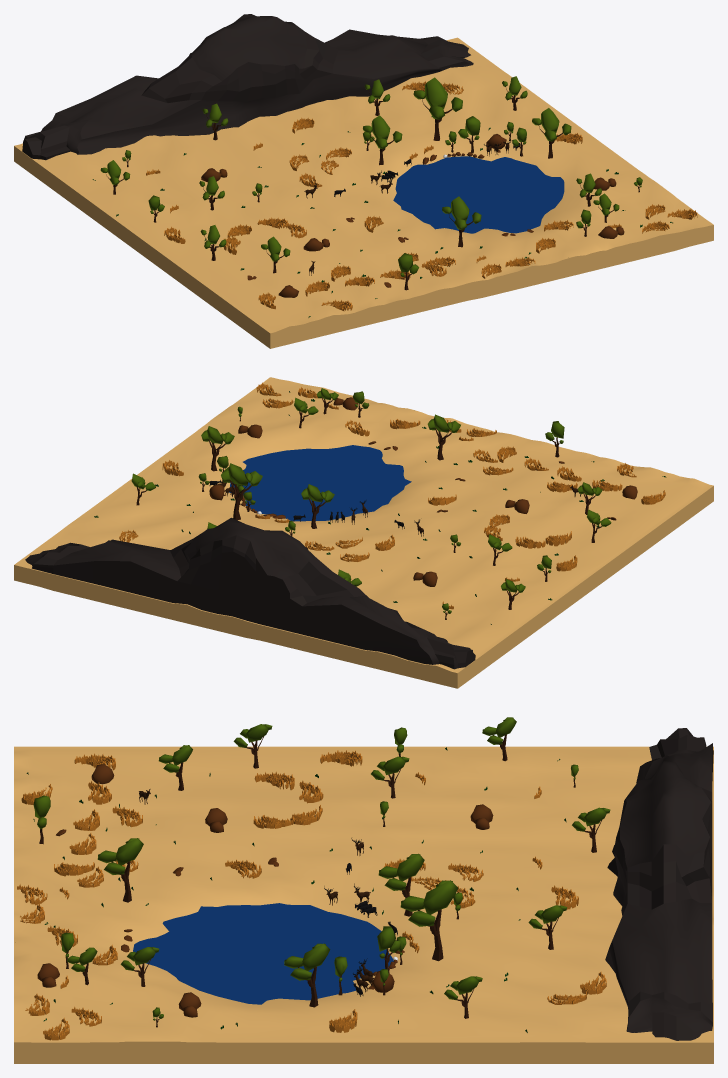
Rendered from 01_Wild.FBX.
The picture shows the model from 3 angles, top to bottom: view 1: azimuth 30°, elevation 25°; view 2: azimuth 150°, elevation 25°; view 3: azimuth 270°, elevation 25°; orthographic projection. The views are drawn at different scales.
Visible parts, largest first — view 1: Box001, Box002, Box1055; view 2: Box001, Box002, Box1055; view 3: Box001, Box002, Box1055, grp1, GeoSphere089.
Boxes of the visible parts, x1=… form: Box001: x1=14, y1=37, x2=713, y2=348; Box002: x1=22, y1=14, x2=473, y2=160; Box1055: x1=393, y1=156, x2=564, y2=233; Box001: x1=14, y1=377, x2=713, y2=688; Box002: x1=25, y1=517, x2=475, y2=669; Box1055: x1=229, y1=445, x2=411, y2=521; Box001: x1=14, y1=746, x2=713, y2=1063; Box002: x1=605, y1=728, x2=713, y2=1040; Box1055: x1=133, y1=903, x2=393, y2=1004; grp1: x1=139, y1=789, x2=373, y2=992; GeoSphere089: x1=423, y1=880, x2=458, y2=914.
Size of the model in its own units: 500 by 108 by 500.
